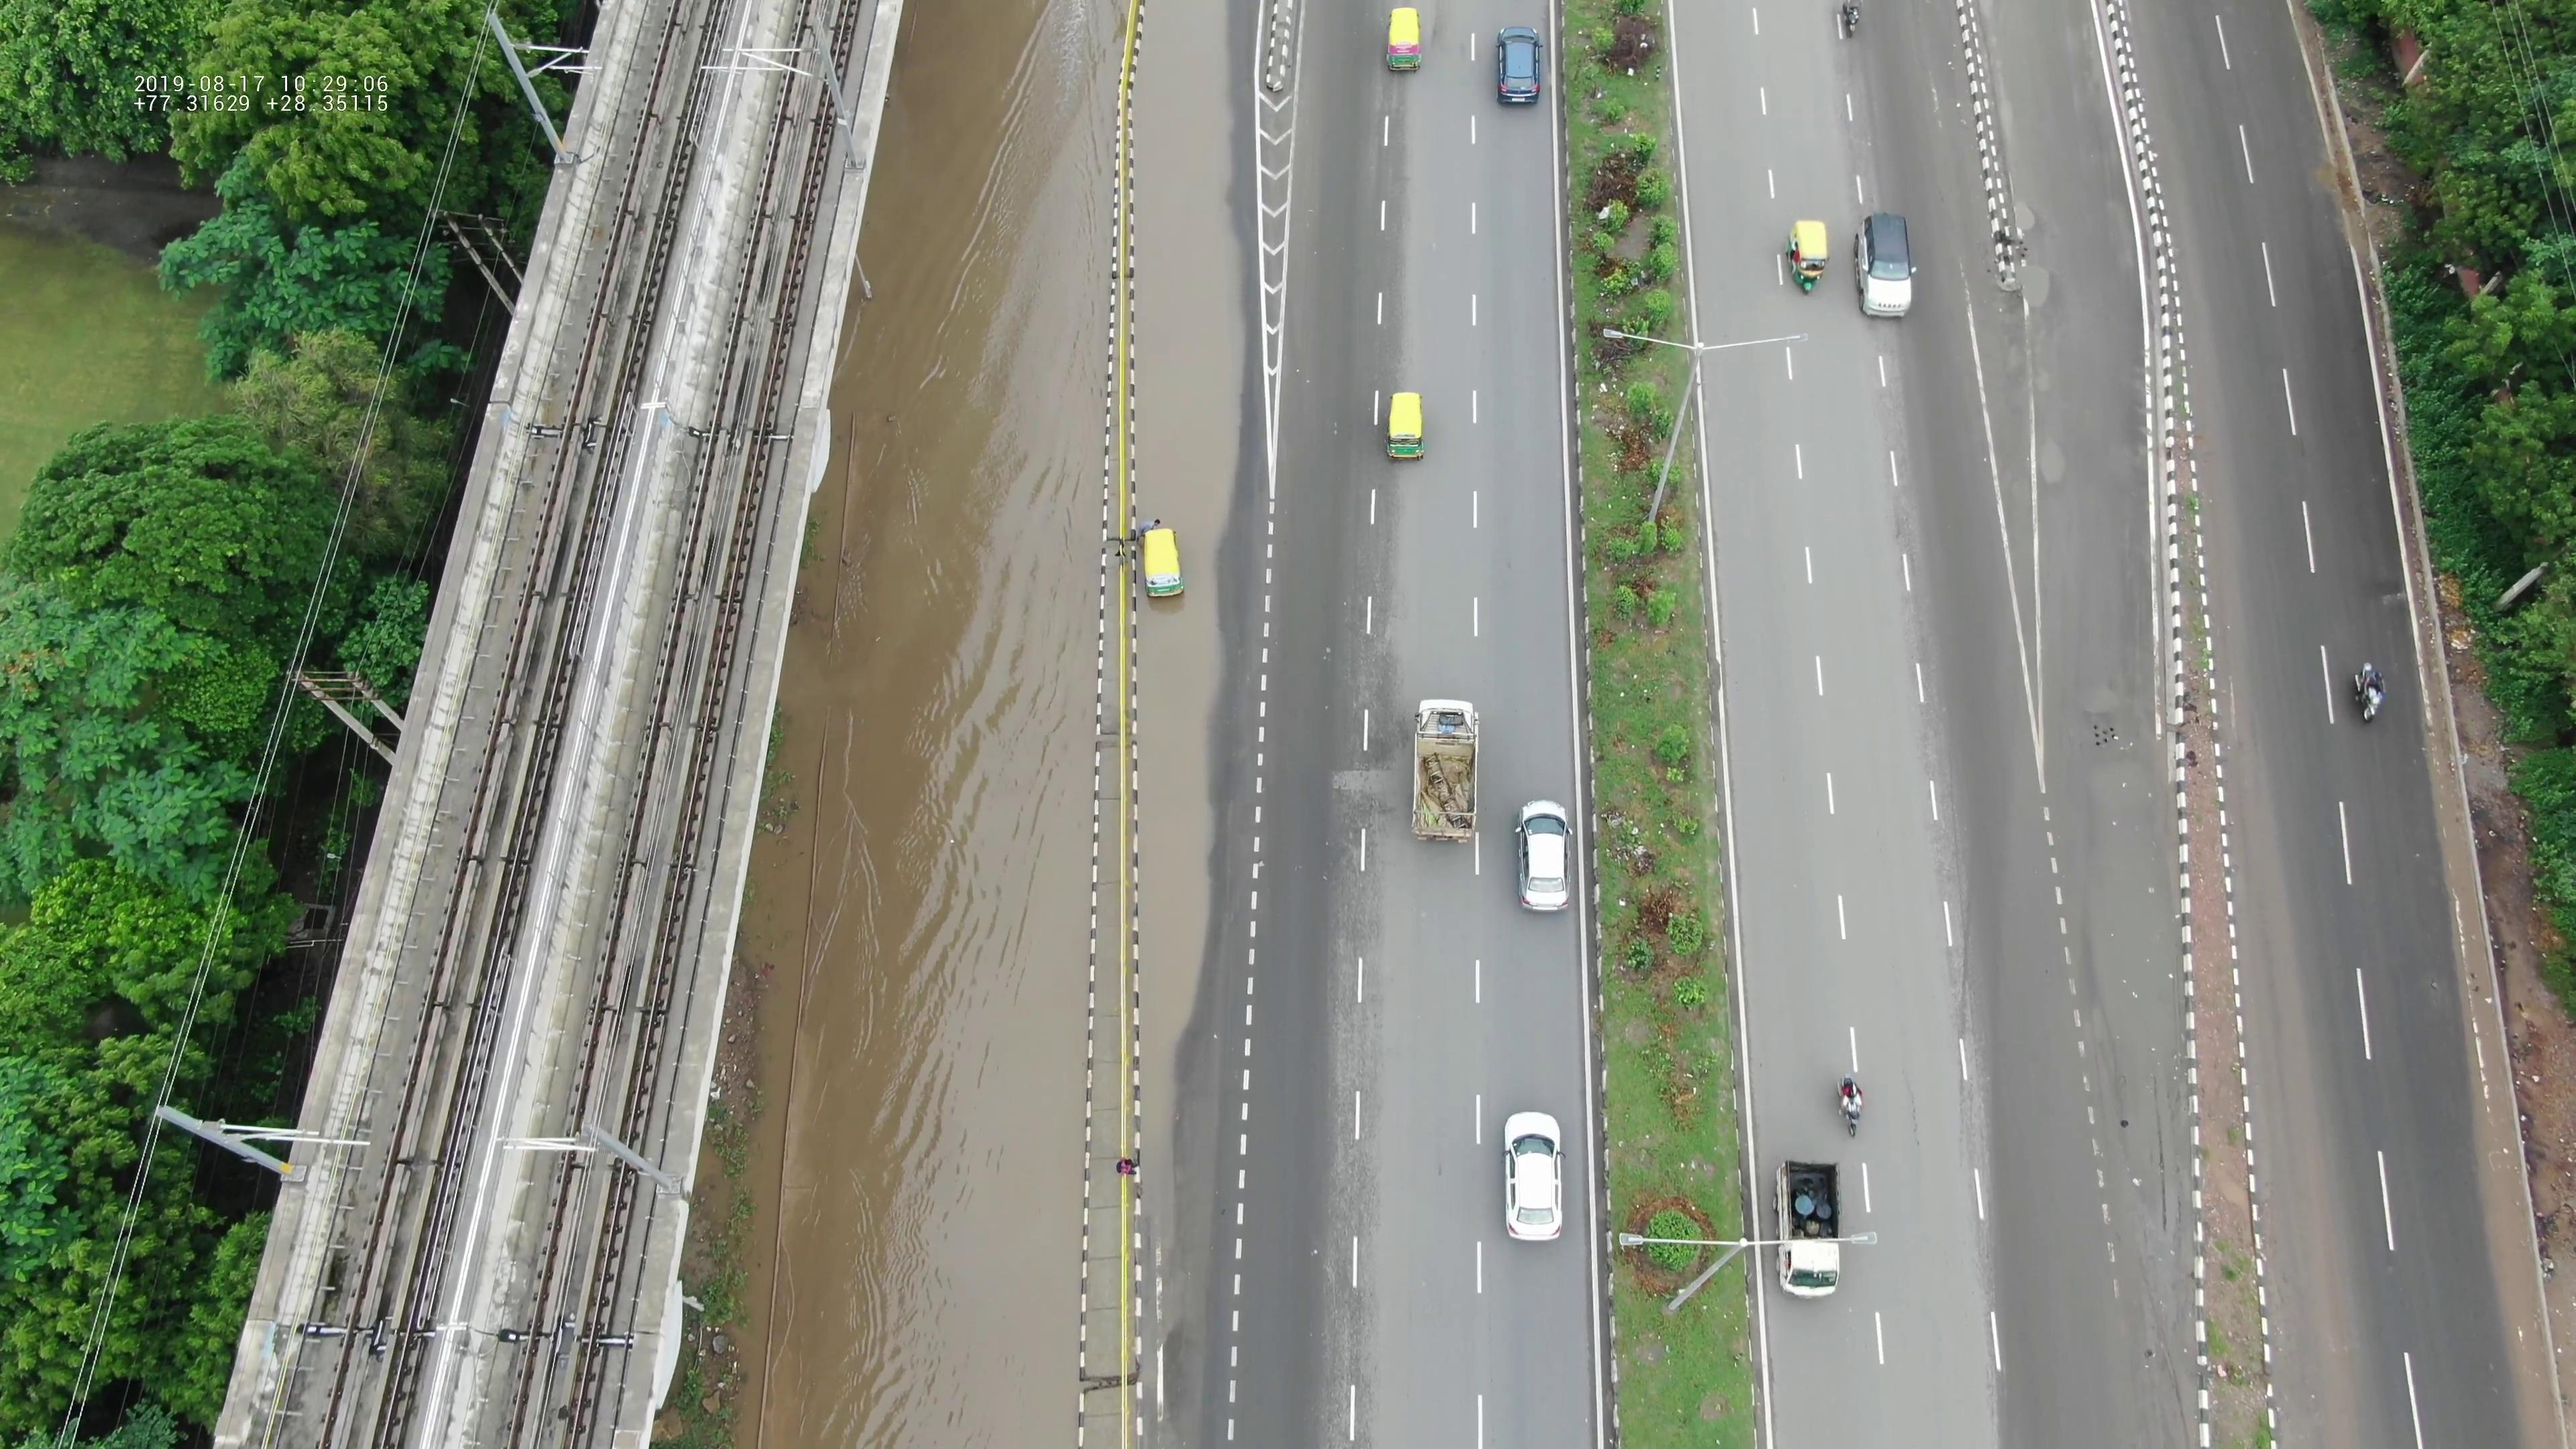Potholes: (1994, 198, 2072, 313), (2010, 419, 2084, 513), (1997, 333, 2072, 407), (2127, 357, 2162, 469), (2075, 667, 2132, 732)
Waterlogging: (2063, 766, 2189, 1171)
